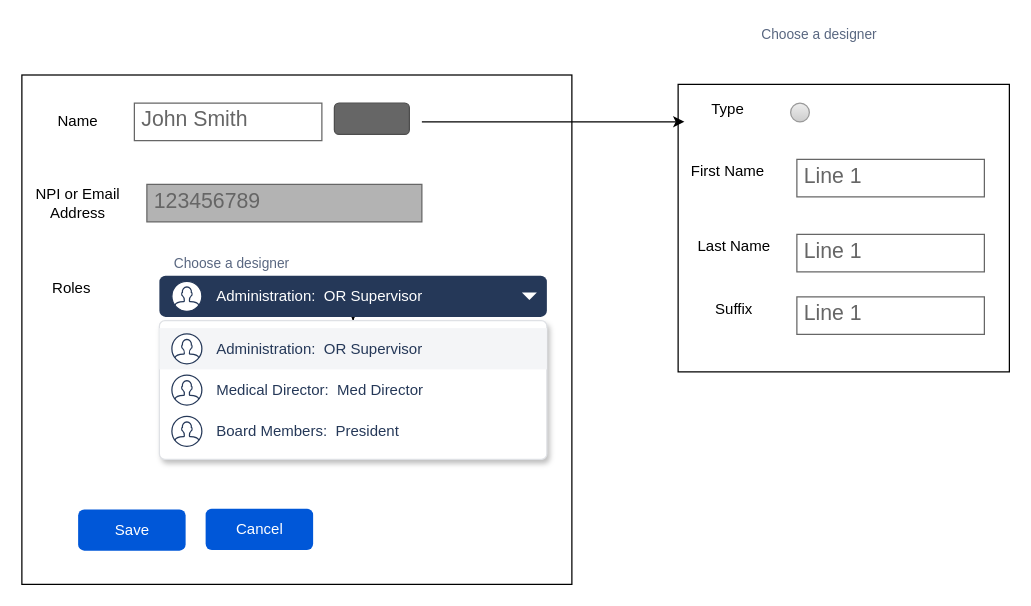
This 1031x606 diagram has some shape labels left out. Each missing label, with the centre of its shape:
New: (371,118)
Physician: (799,112)
